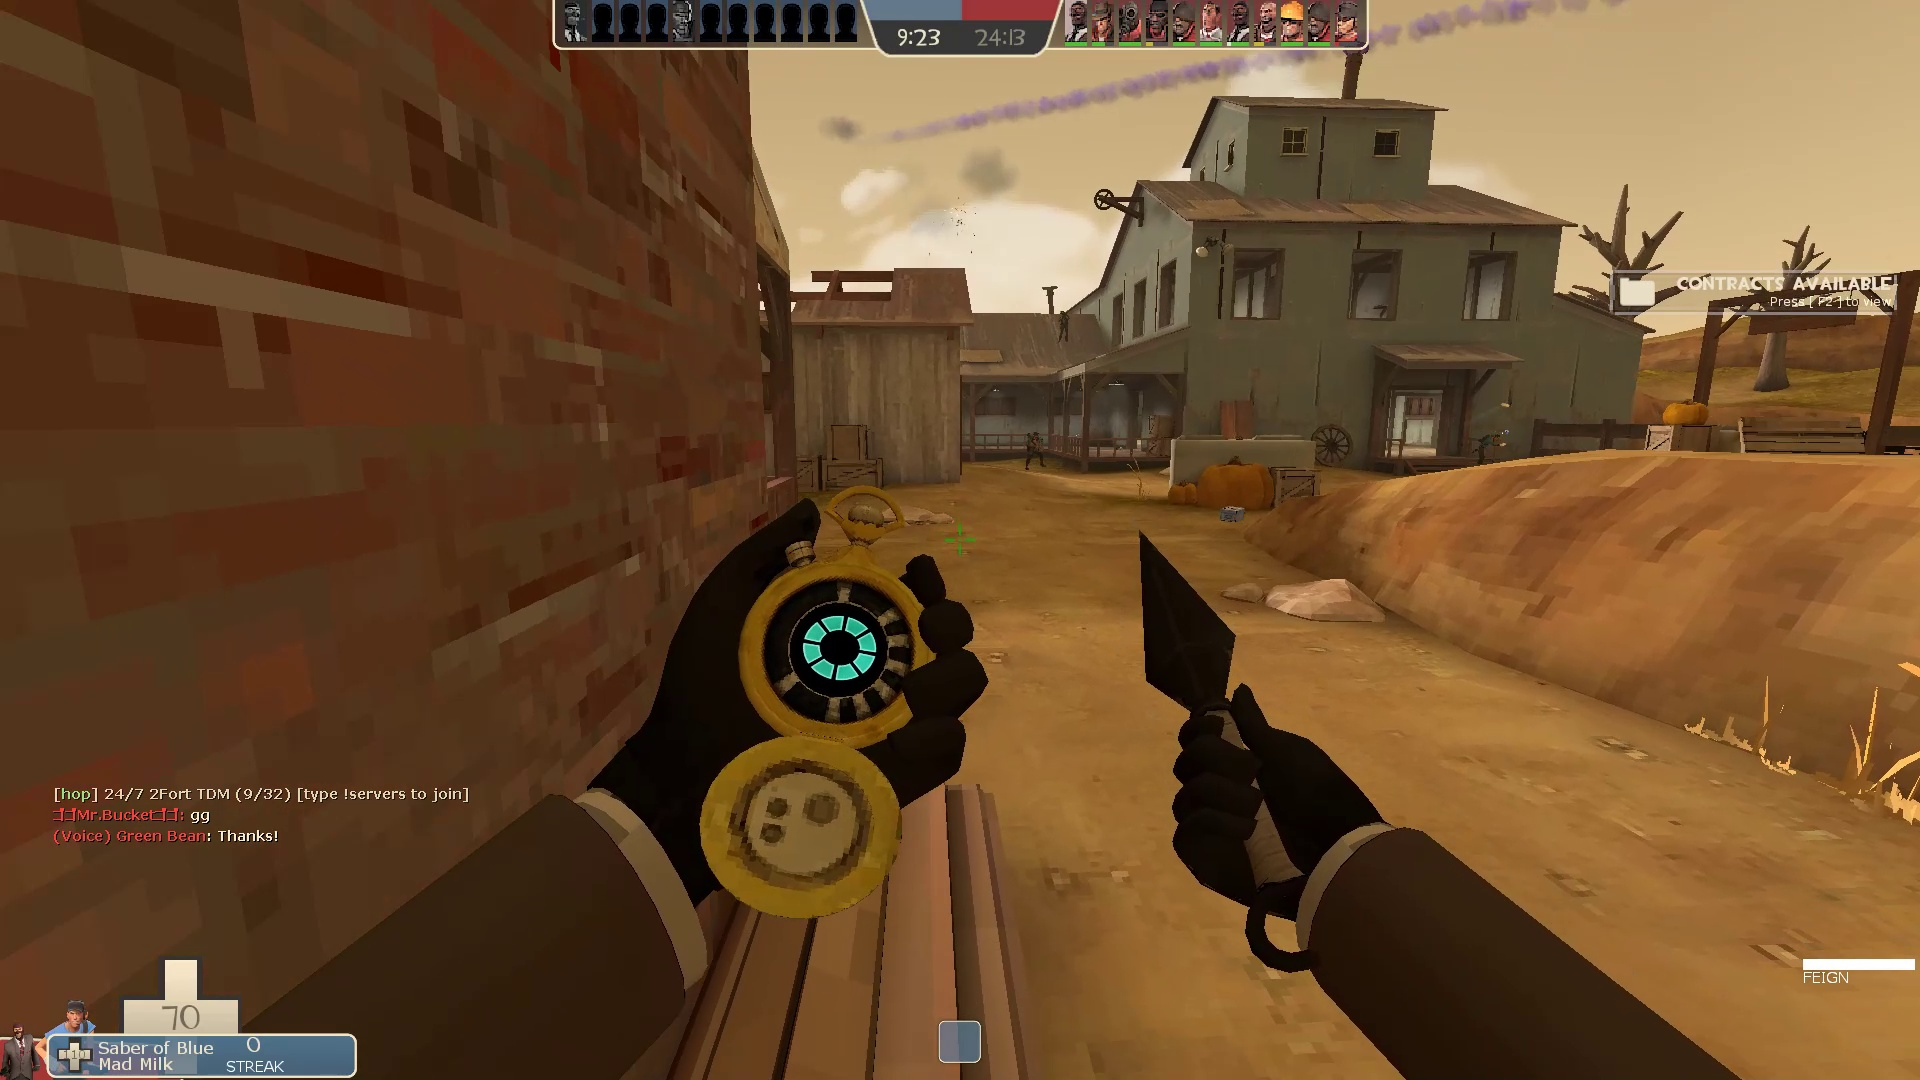blu_soldier: (1023, 429, 1050, 473)
